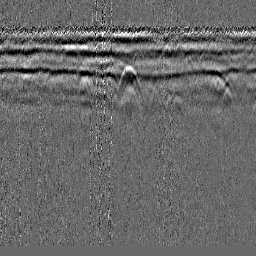cavity: (116, 62, 142, 99)
